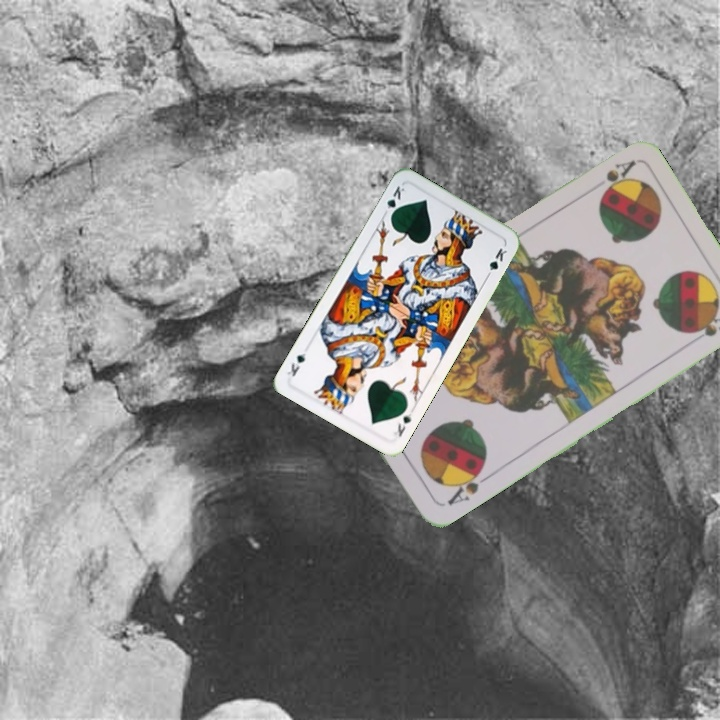GK: (382, 181, 409, 220), (389, 408, 414, 439)
SA: (443, 462, 493, 508), (596, 156, 638, 198)
